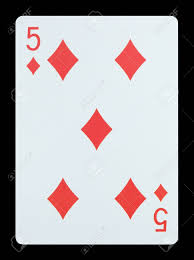five of diamonds: (16, 15, 178, 244)
